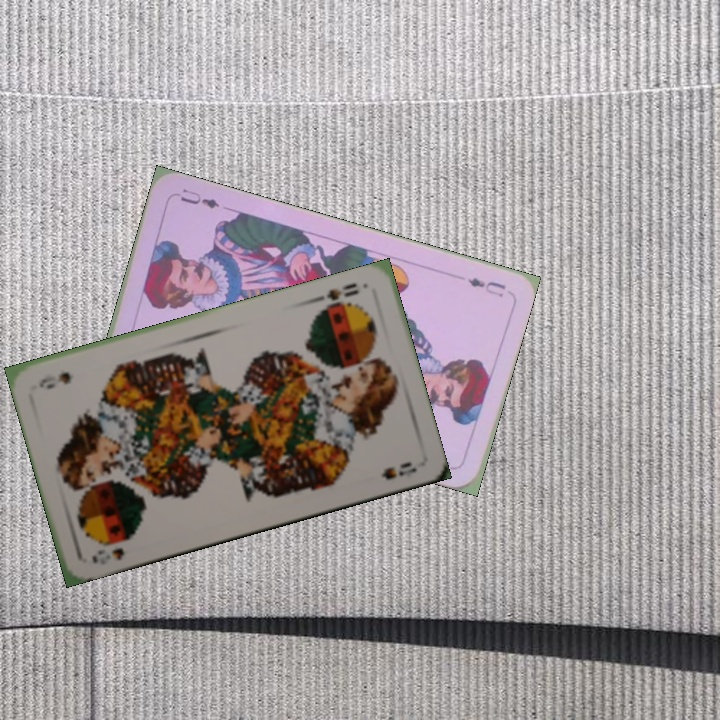EU: (463, 273, 509, 300)
SO: (315, 279, 362, 313), (87, 543, 127, 567)
